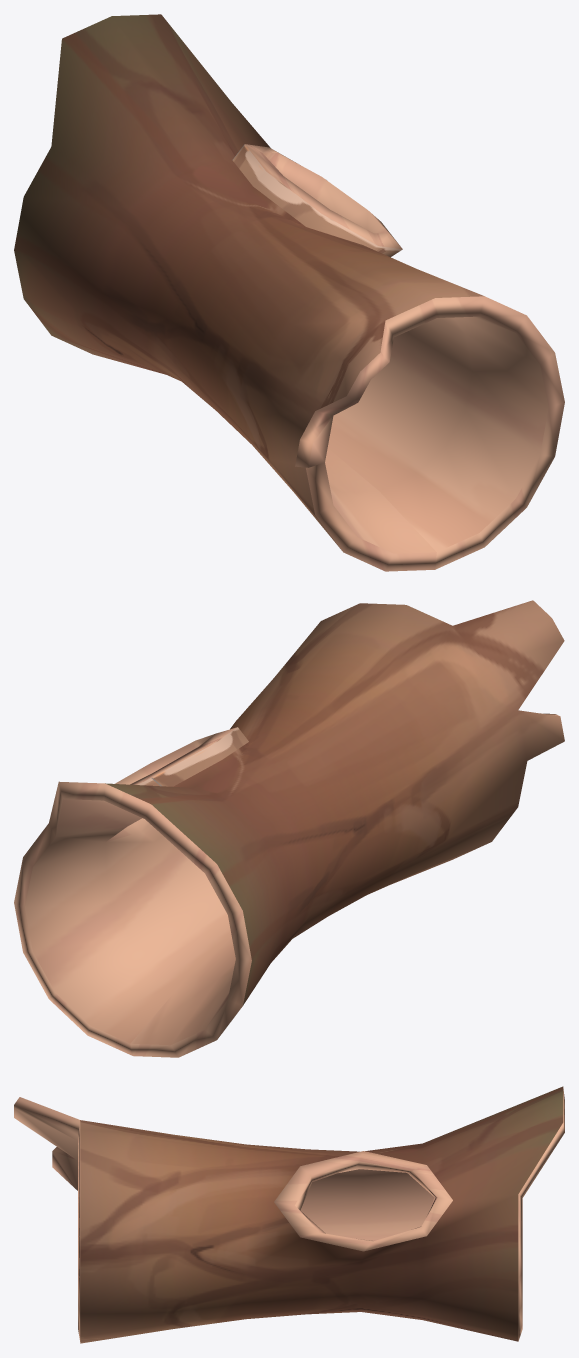
Rendered from Mesh_TreeLog.fbx.
The picture shows the model from 3 angles, top to bottom: view 1: azimuth 30°, elevation 25°; view 2: azimuth 150°, elevation 25°; view 3: azimuth 270°, elevation 25°; orthographic projection. The views are drawn at different scales.
Parts seen in each view (by area): view 1: Log; view 2: Log; view 3: Log.
Boxes of the visible parts, <box> form: Log: <box>14,14,564,571</box>; Log: <box>14,600,564,1057</box>; Log: <box>14,1086,564,1343</box>.
Size of the model in its own units: 140 by 146 by 307.
